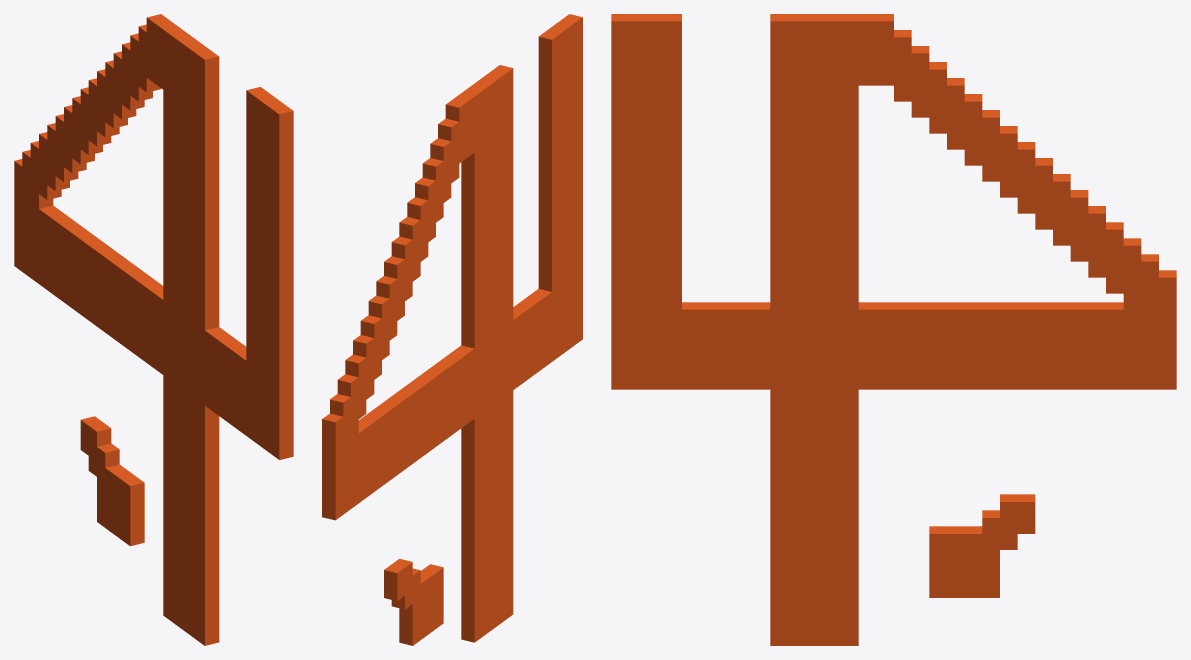
Rendered from Factory Bits-9-Rune1.obj.
3 renders of one model, left to right at view 1: azimuth 30°, elevation 25°; view 2: azimuth 150°, elevation 25°; view 3: azimuth 270°, elevation 25°, orthographic. The views are drawn at different scales.
Parts seen in each view (by area): view 1: Rune1; view 2: Rune1; view 3: Rune1.
Part boxes in pixels (bbox=[...]): Rune1: bbox=[14, 14, 293, 645]; Rune1: bbox=[322, 14, 582, 645]; Rune1: bbox=[611, 14, 1176, 645].
Size of the model in its own units: 0.1 by 3.9 by 3.2.
Materials: 1 (1 with a texture image).
